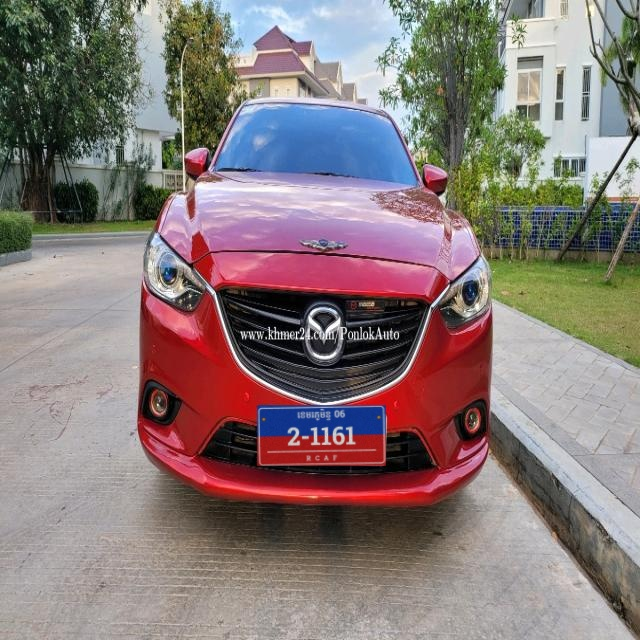Plate Number: (257, 406, 387, 466)
